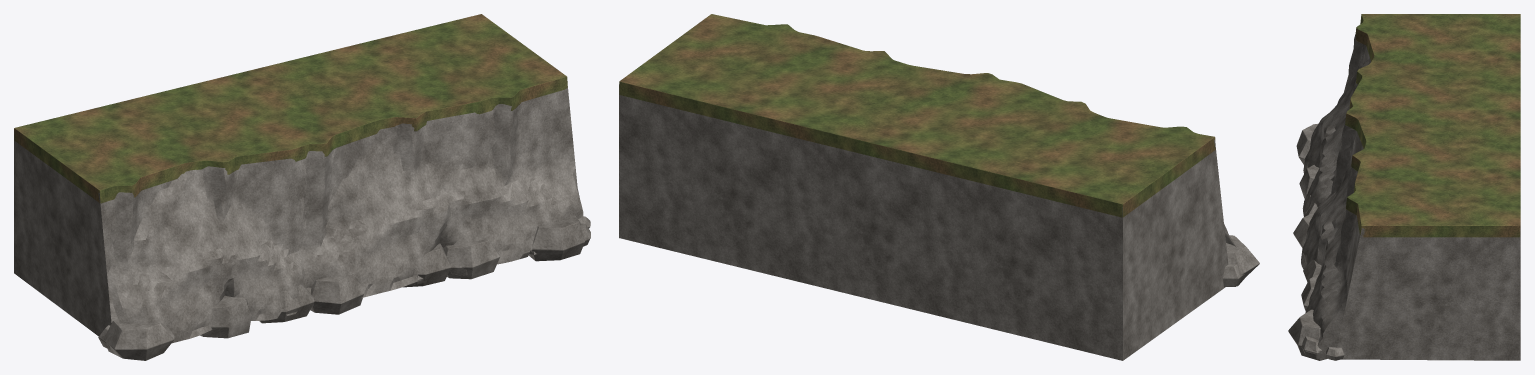
File: cliff_rocks-LOD2.glb
3 views of the same model, side by side, from view 1: azimuth 30°, elevation 25°; view 2: azimuth 150°, elevation 25°; view 3: azimuth 270°, elevation 25° (orthographic). The views are drawn at different scales.
Visible parts, largest first — view 1: Continuous angular escarpment bedrock, Continuous soil and grass cliff crest; view 2: Continuous angular escarpment bedrock, Continuous soil and grass cliff crest; view 3: Continuous soil and grass cliff crest, Continuous angular escarpment bedrock.
Part boxes in pixels (box(x1,y1,x2,y2)): Continuous angular escarpment bedrock: box(14, 86, 590, 360); Continuous soil and grass cliff crest: box(14, 14, 567, 203); Continuous angular escarpment bedrock: box(619, 84, 1259, 360); Continuous soil and grass cliff crest: box(619, 14, 1215, 217); Continuous soil and grass cliff crest: box(1345, 14, 1520, 237); Continuous angular escarpment bedrock: box(1288, 34, 1520, 360).
Bounding box in the file's own units: 12.57 × 3.72 × 5.56.
Materials: 2 (2 with a texture image).
